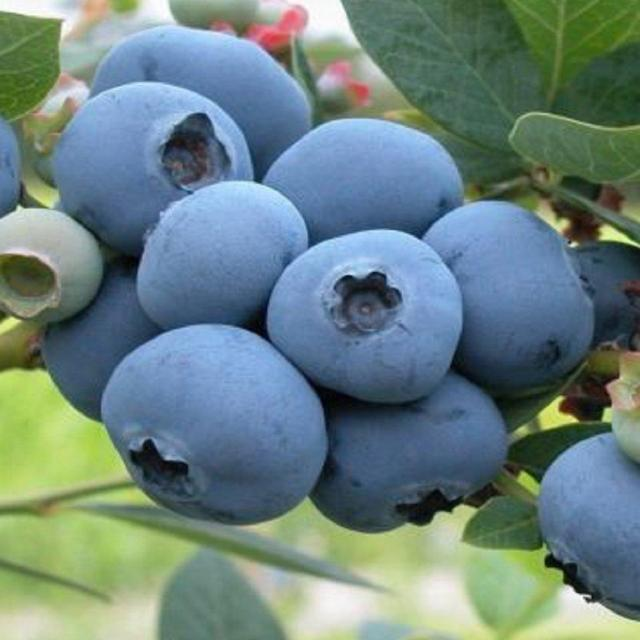BlueBerry - v1: (88, 312, 340, 534), (284, 358, 518, 552), (413, 189, 612, 408), (253, 222, 474, 416), (47, 82, 266, 255), (94, 20, 326, 179), (254, 115, 479, 267), (123, 171, 318, 341), (32, 254, 187, 420), (524, 416, 640, 628), (0, 194, 126, 334), (545, 233, 640, 355)
